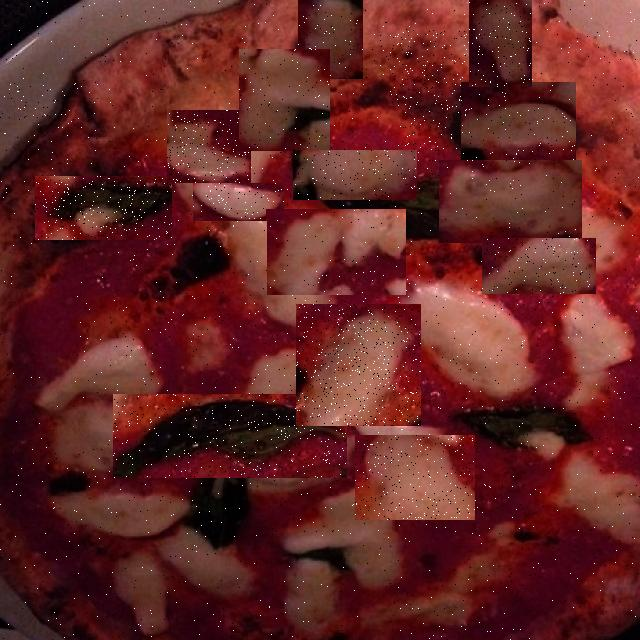Basil: (113, 394, 347, 478), (35, 176, 172, 240), (395, 84, 456, 195)
Cheese: (296, 304, 421, 426), (439, 160, 584, 243), (267, 209, 406, 295), (355, 435, 475, 520), (239, 49, 330, 151), (461, 82, 576, 160), (390, 29, 478, 114), (0, 83, 80, 176), (21, 358, 109, 442), (16, 244, 77, 353), (482, 238, 596, 294), (293, 150, 417, 200), (167, 110, 251, 183), (469, 0, 532, 87), (298, 0, 363, 79), (194, 183, 286, 221)
Pizza: (0, 0, 640, 640)
